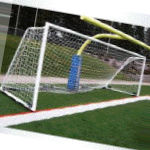goals: (2, 19, 147, 112)
